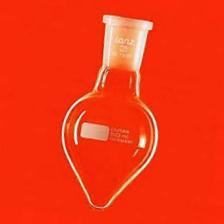Pear shaped flask: (58, 4, 160, 210)
